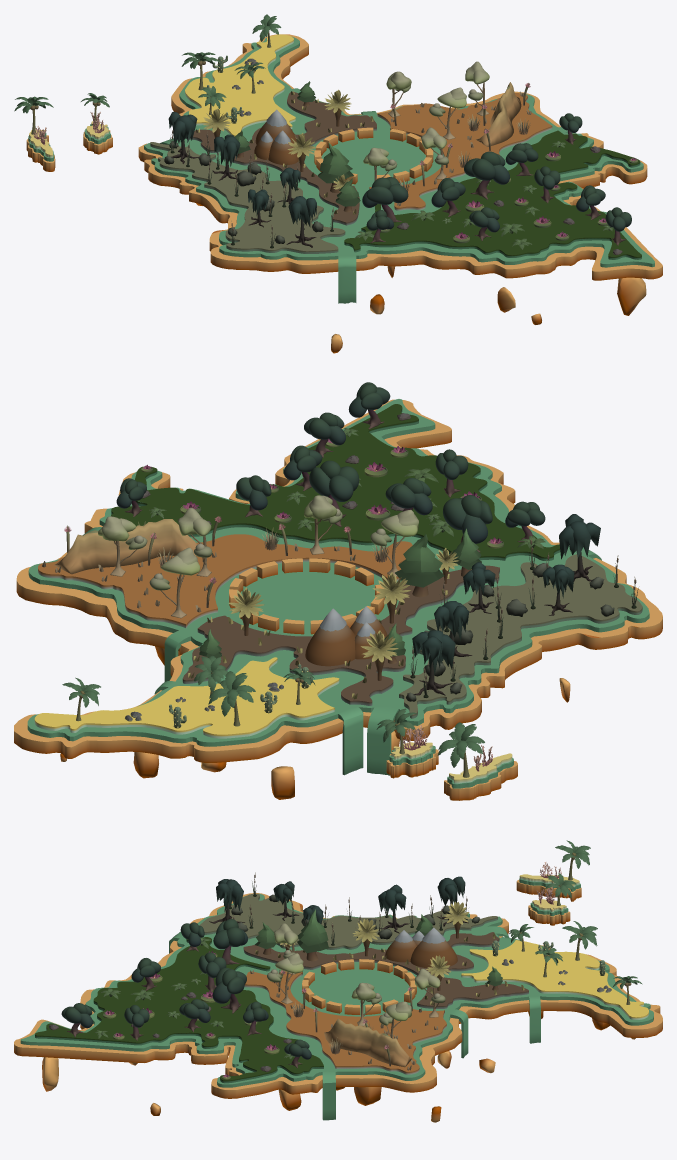
The model's file is Colombia Con Imagenes MEDIO.fbx.
3 renders of one model, top to bottom at view 1: azimuth 30°, elevation 25°; view 2: azimuth 150°, elevation 25°; view 3: azimuth 270°, elevation 25°, orthographic. The views are drawn at different scales.
Parts seen in each view (by area): view 1: Malla agua 1, Malla Amazonas, Malla Piso Colombia, Malla Pacifico, Malla Orinoquia, Malla Atlantico, Malla Andina, Muro.009, Montañas orinoquia, Arbol Amazonas.008, Arbol Amazonas.001, Arbol andino.006 (+19 smaller); view 2: Malla agua 1, Malla Piso Colombia, Malla Amazonas, Malla Pacifico, Malla Orinoquia, Malla Atlantico, Malla Andina, Montañas orinoquia, Muro.009, Montaña andina, Arbol Amazonas.001, Arbol andino.006 (+31 smaller); view 3: Malla agua 1, Malla Amazonas, Malla Piso Colombia, Malla Orinoquia, Malla Atlantico, Malla Pacifico, Malla Andina, Muro.009, Montañas orinoquia, Montaña andina, Arbol Amazonas.008, Arbol andino.006 (+26 smaller).
Boxes of the visible parts, bbox=[...] form: Malla agua 1: bbox=[144, 36, 654, 303]; Malla Amazonas: bbox=[344, 130, 641, 259]; Malla Piso Colombia: bbox=[138, 34, 662, 280]; Malla Pacifico: bbox=[150, 142, 345, 253]; Malla Orinoquia: bbox=[369, 93, 552, 210]; Malla Atlantico: bbox=[185, 34, 295, 136]; Malla Andina: bbox=[186, 91, 376, 225]; Muro.009: bbox=[314, 127, 433, 184]; Montañas orinoquia: bbox=[476, 82, 521, 146]; Arbol Amazonas.008: bbox=[464, 151, 509, 199]; Arbol Amazonas.001: bbox=[362, 177, 408, 222]; Arbol andino.006: bbox=[318, 142, 353, 192]; Malla agua 1: bbox=[27, 399, 649, 775]; Malla Piso Colombia: bbox=[14, 399, 662, 762]; Malla Amazonas: bbox=[111, 404, 560, 567]; Malla Pacifico: bbox=[399, 554, 642, 718]; Malla Orinoquia: bbox=[38, 534, 412, 628]; Malla Atlantico: bbox=[34, 657, 339, 738]; Malla Andina: bbox=[182, 565, 499, 705]; Montañas orinoquia: bbox=[53, 519, 197, 574]; Muro.009: bbox=[229, 558, 384, 634]; Montaña andina: bbox=[305, 608, 355, 666]; Arbol Amazonas.001: bbox=[443, 495, 492, 552]; Arbol andino.006: bbox=[395, 534, 444, 597]; Malla agua 1: bbox=[20, 893, 653, 1120]; Malla Amazonas: bbox=[35, 937, 323, 1083]; Malla Piso Colombia: bbox=[14, 893, 662, 1098]; Malla Orinoquia: bbox=[244, 970, 446, 1074]; Malla Atlantico: bbox=[461, 940, 648, 1019]; Malla Pacifico: bbox=[199, 893, 497, 949]; Malla Andina: bbox=[243, 932, 528, 1008]; Muro.009: bbox=[302, 959, 416, 1014]; Montañas orinoquia: bbox=[324, 1018, 411, 1067]; Montaña andina: bbox=[410, 927, 457, 968]; Arbol Amazonas.008: bbox=[212, 967, 246, 1013]; Arbol andino.006: bbox=[297, 909, 328, 961].
Size of the model in its own units: 2919 by 1058 by 3771.
Materials: 19 (19 with a texture image).
